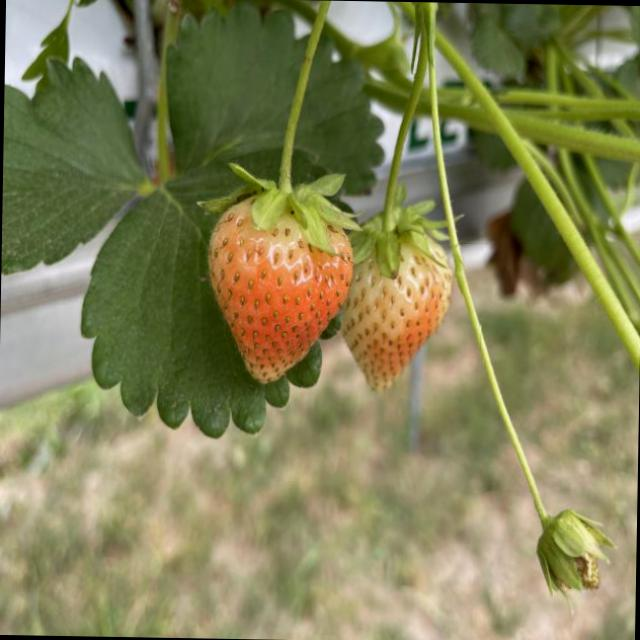stem: (200, 0, 354, 250), (352, 37, 443, 276)
strawberryNR: (336, 240, 450, 390)
strawberryR: (207, 200, 349, 380)
